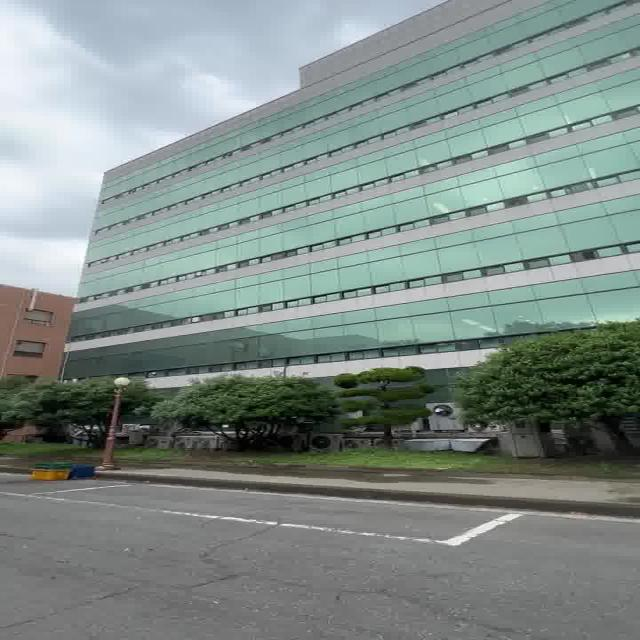building: (60, 36, 640, 335)
